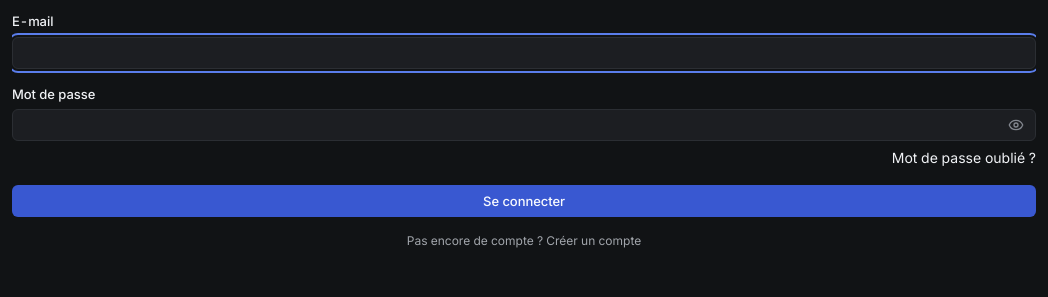
Test: <LoginForm> › shows the generic error message on failure
Type "alex@example.com" into the field labelled "E-mail".
click(524, 53); type("alex@example.com")  # box [12,37,1036,69]
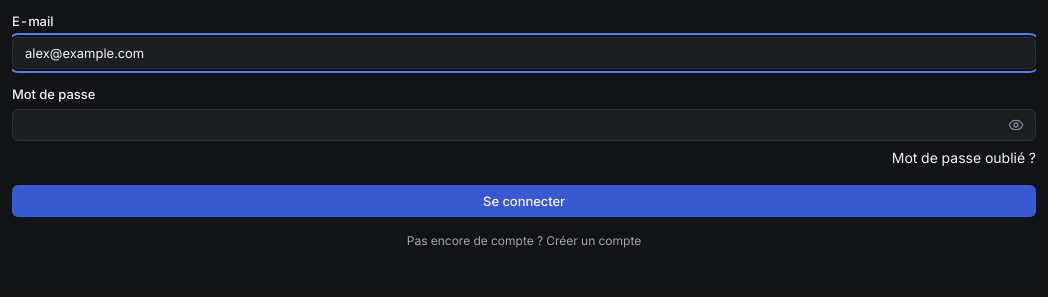
Type "hunter2" into the password field labelled "Mot de passe".
click(524, 125); type("hunter2")  # box [12,109,1036,141]
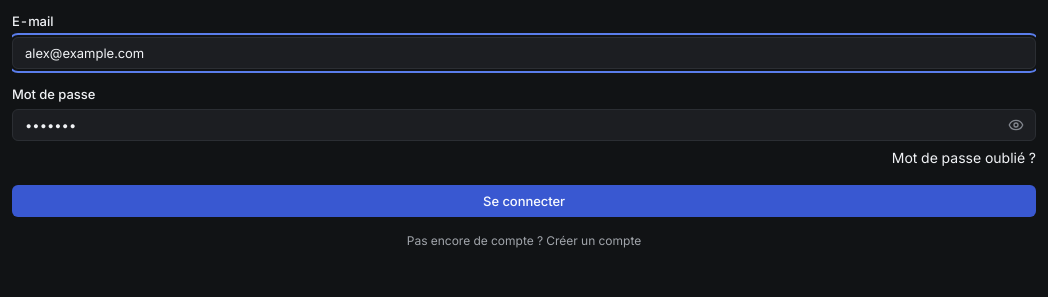
Click the button "Se connecter".
click(524, 201)  # box [12,185,1036,217]
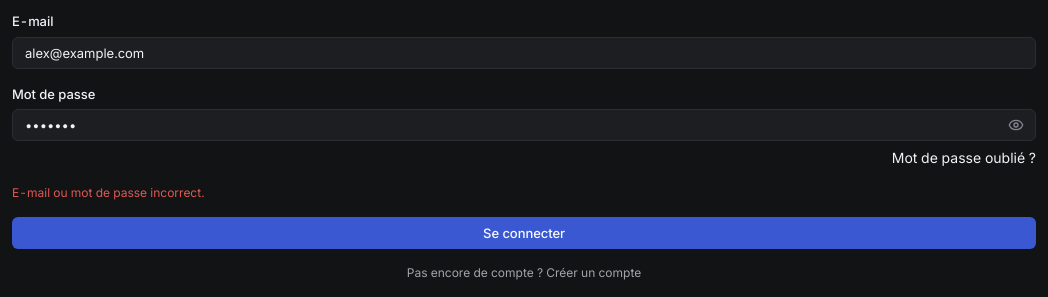
Now the text "E-mail ou mot de passe incorrect." is shown, box [12,185,204,200]
